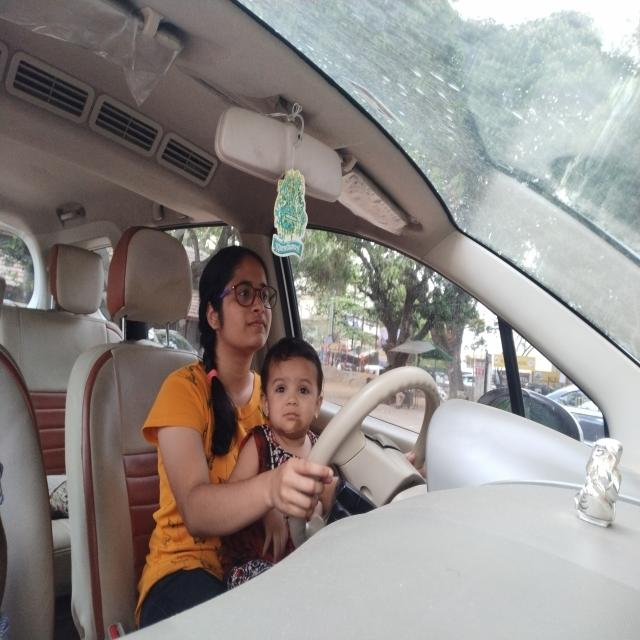child: (264, 356, 328, 439)
person: (200, 238, 275, 354)
